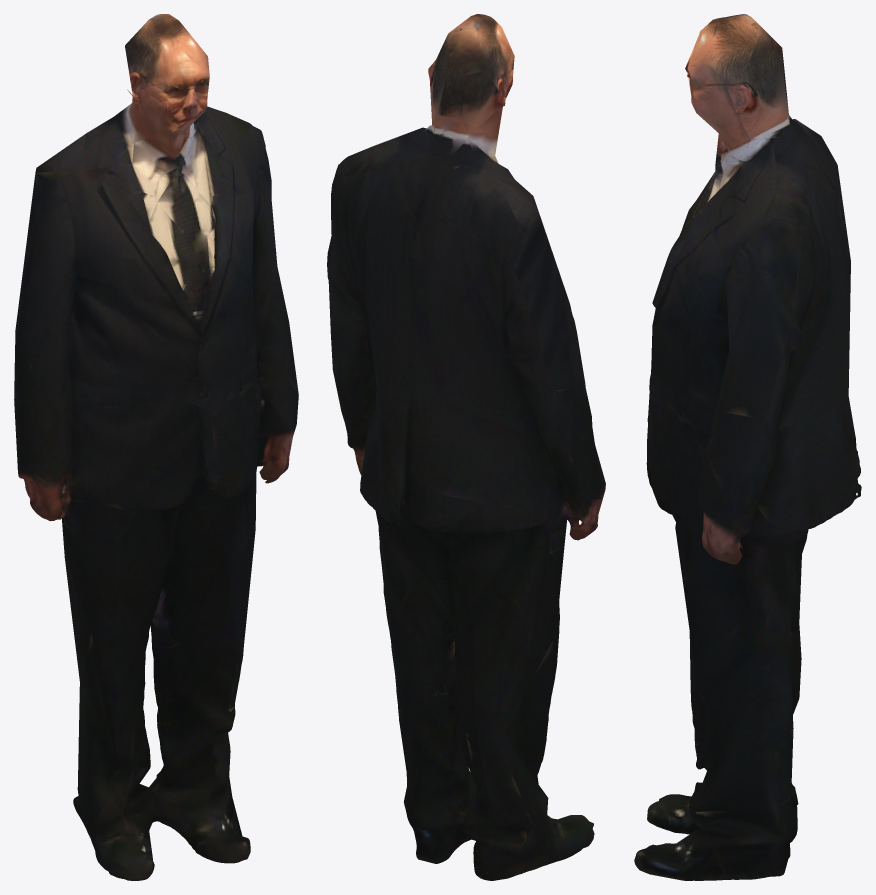
Rendered from person-opt.glb.
The picture shows the model from 3 angles, left to right: view 1: azimuth 30°, elevation 25°; view 2: azimuth 150°, elevation 25°; view 3: azimuth 270°, elevation 25°; orthographic projection. The views are drawn at different scales.
Parts seen in each view (by area): view 1: ClientPartner; view 2: ClientPartner; view 3: ClientPartner.
Part boxes in pixels (<box>): ClientPartner: <box>14,14,298,880</box>; ClientPartner: <box>327,14,605,880</box>; ClientPartner: <box>634,14,861,880</box>.
Bounding box in the file's own units: 0.5846 × 1.74 × 0.4251.
1 material, 1 textured.
